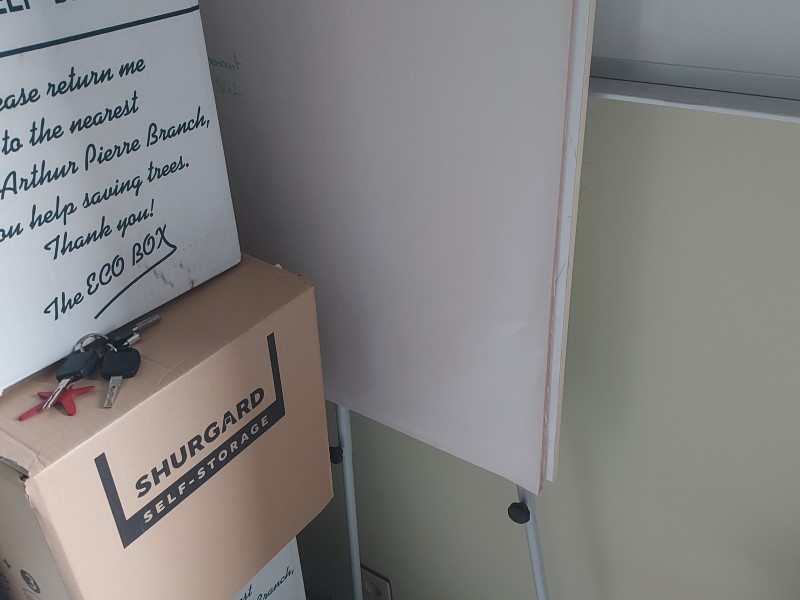key: (41, 346, 96, 411), (101, 342, 141, 411)
